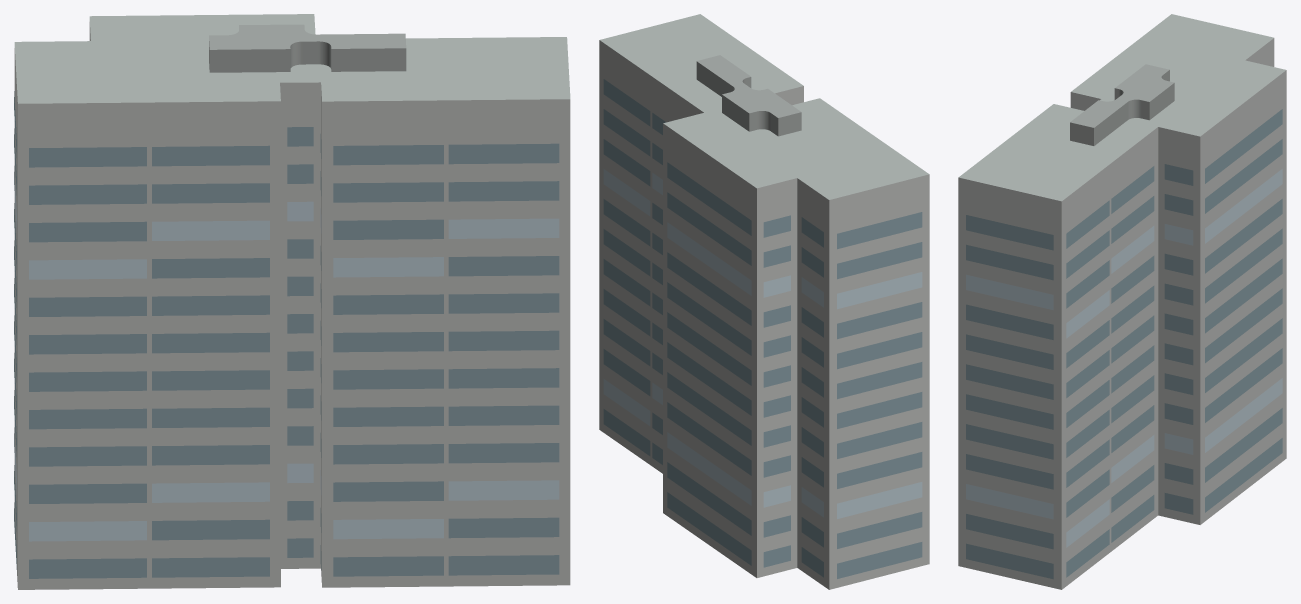
The model's file is apt-a13176902.glb.
3 views of the same model, side by side, from view 1: azimuth 30°, elevation 25°; view 2: azimuth 150°, elevation 25°; view 3: azimuth 270°, elevation 25° (orthographic). The views are drawn at different scales.
Parts seen in each view (by area): view 1: apt-a13176902; view 2: apt-a13176902; view 3: apt-a13176902.
Boxes of the visible parts, box(x1,y1,x2,y2) form: apt-a13176902: box(14, 14, 570, 589); apt-a13176902: box(599, 14, 929, 589); apt-a13176902: box(958, 14, 1286, 589).
Size of the model in its own units: 41.48 by 42 by 30.7.
